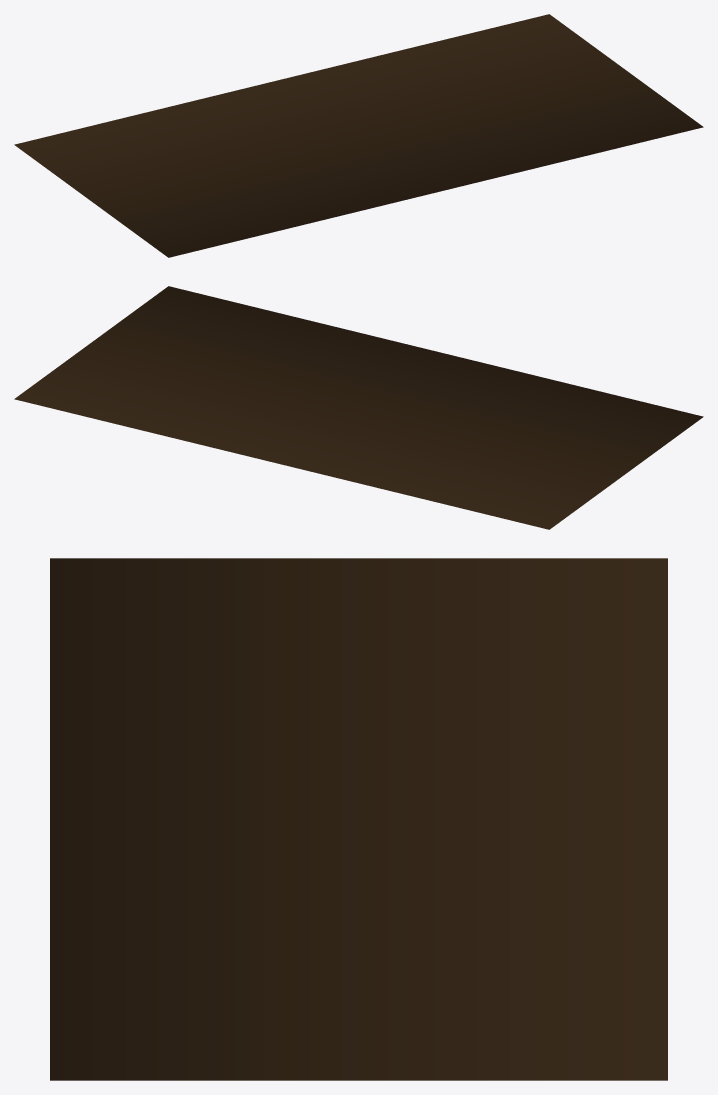
The picture shows the model from 3 angles, top to bottom: view 1: azimuth 30°, elevation 25°; view 2: azimuth 150°, elevation 25°; view 3: azimuth 270°, elevation 25°; orthographic projection. The views are drawn at different scales.
Bounding box in the file's own units: 1 × 0 × 0.5.
Materials: 1 (1 with a texture image).
